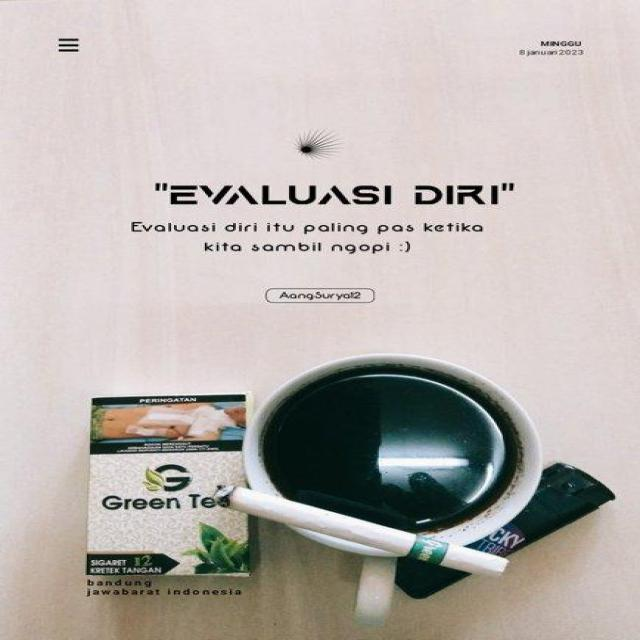rokok: (207, 483, 521, 581)
